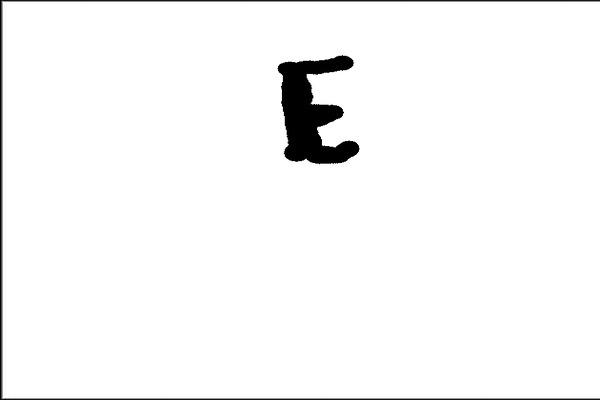E: (271, 49, 366, 168)
